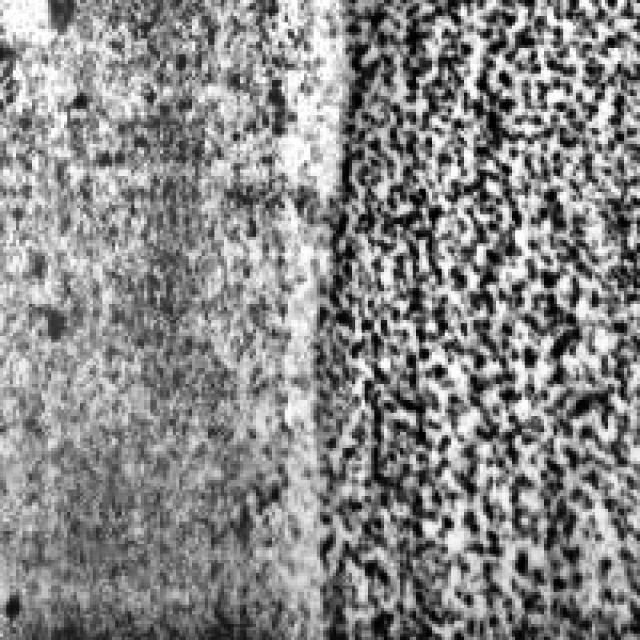Rolled_in_Scale: (301, 0, 637, 634)
